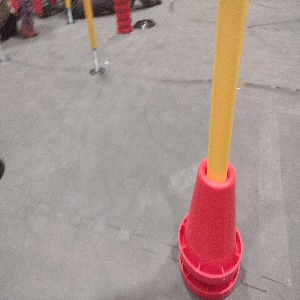Red_2: (174, 151, 242, 297)
